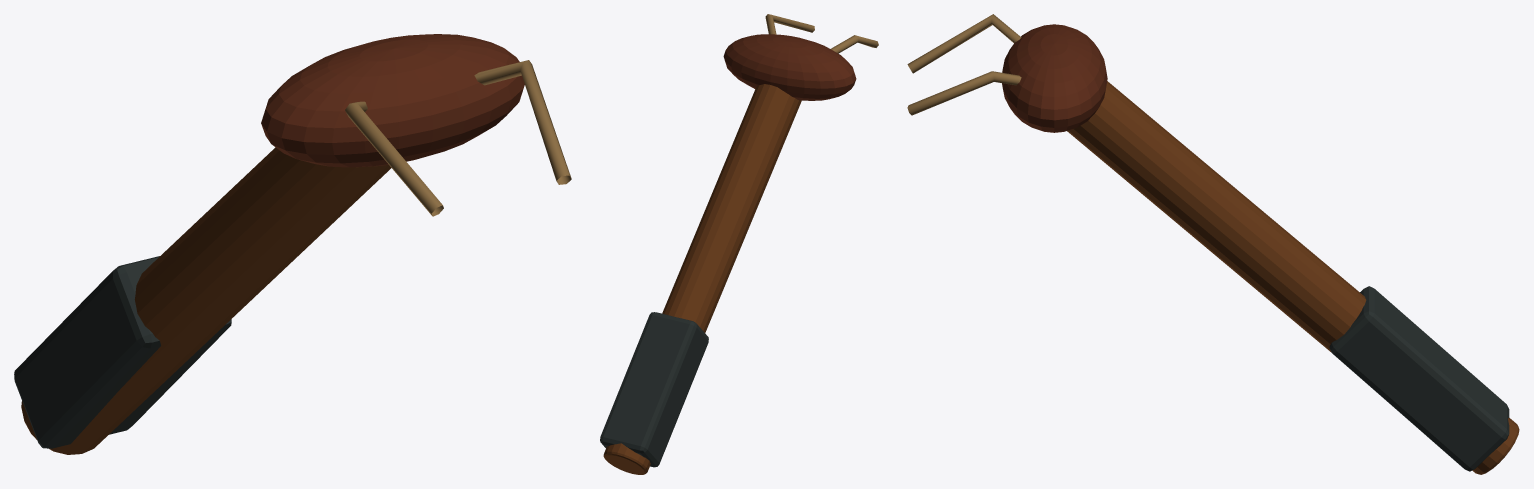
File: catapult_articulated_arm.glb
3 renders of one model, left to right at view 1: azimuth 30°, elevation 25°; view 2: azimuth 150°, elevation 25°; view 3: azimuth 270°, elevation 25°, orthographic. The views are drawn at different scales.
Visible parts, largest first — view 1: CatapultThrowingArm, CatapultLeatherSlingCup, CatapultArmReinforcement, CatapultSlingCordRight, CatapultSlingCordLeft; view 2: CatapultThrowingArm, CatapultArmReinforcement, CatapultLeatherSlingCup, CatapultSlingCordRight, CatapultSlingCordLeft; view 3: CatapultThrowingArm, CatapultArmReinforcement, CatapultLeatherSlingCup, CatapultSlingCordLeft, CatapultSlingCordRight.
Part boxes in pixels (left/top/right/bottom): CatapultThrowingArm: left=21, top=147, right=391, bottom=454; CatapultLeatherSlingCup: left=261, top=34, right=524, bottom=167; CatapultArmReinforcement: left=14, top=256, right=231, bottom=448; CatapultSlingCordRight: left=474, top=60, right=571, bottom=184; CatapultSlingCordLeft: left=345, top=101, right=443, bottom=216; CatapultThrowingArm: left=603, top=84, right=801, bottom=474; CatapultArmReinforcement: left=600, top=312, right=708, bottom=467; CatapultLeatherSlingCup: left=723, top=34, right=856, bottom=100; CatapultSlingCordRight: left=765, top=14, right=814, bottom=34; CatapultSlingCordLeft: left=831, top=35, right=878, bottom=53; CatapultThrowingArm: left=1067, top=81, right=1519, bottom=474; CatapultArmReinforcement: left=1329, top=286, right=1509, bottom=471; CatapultLeatherSlingCup: left=1002, top=24, right=1107, bottom=132; CatapultSlingCordLeft: left=907, top=14, right=1021, bottom=73; CatapultSlingCordRight: left=907, top=71, right=1021, bottom=115.
Size of the model in its own units: 0.644 by 1.54 by 2.
